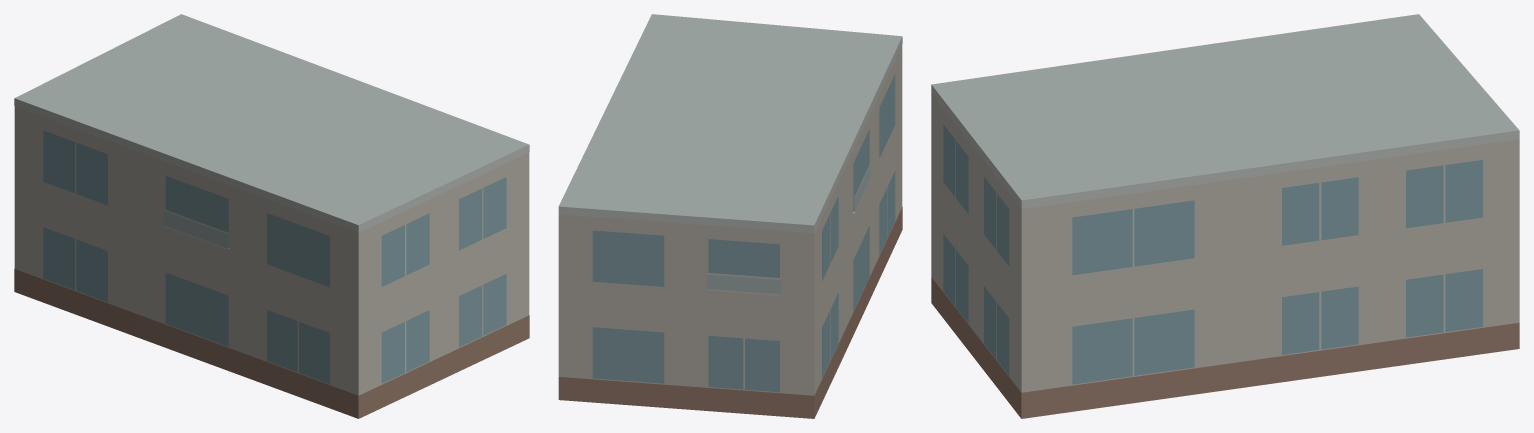
The model's file is survey-upis-32965012.glb.
3 views of the same model, side by side, from view 1: azimuth 30°, elevation 25°; view 2: azimuth 150°, elevation 25°; view 3: azimuth 270°, elevation 25° (orthographic). The views are drawn at different scales.
Parts seen in each view (by area): view 1: survey-upis-32965012.tmp; view 2: survey-upis-32965012.tmp; view 3: survey-upis-32965012.tmp.
Part boxes in pixels (x1,y1,x2,y2): survey-upis-32965012.tmp: (14, 14, 529, 418); survey-upis-32965012.tmp: (558, 14, 902, 418); survey-upis-32965012.tmp: (931, 14, 1519, 418).
Size of the model in its own units: 11.18 by 6.1 by 14.9.
